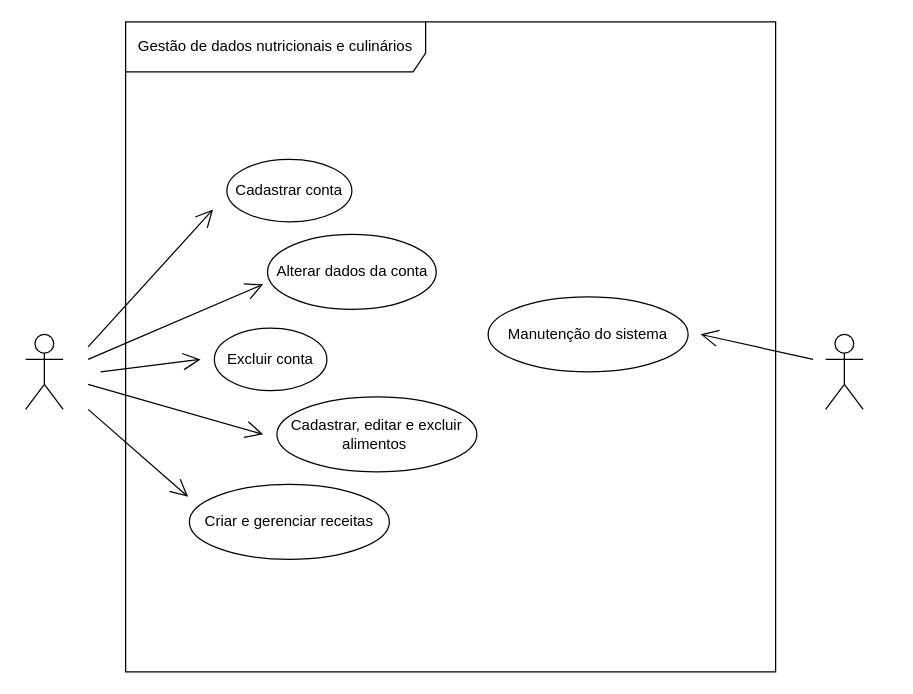
Some shapes in this 913 by 694 pixel diagram are drawn without their labels. The centre of each missing label's shape, as x and y in pixels:
"Administrador" goes at pixel 843 371.
"Cliente" goes at pixel 43 371.
